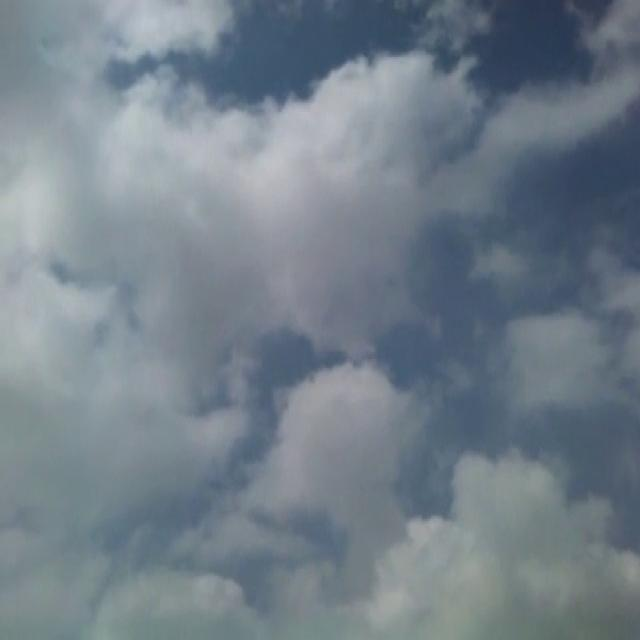drone: (307, 368, 315, 380)
